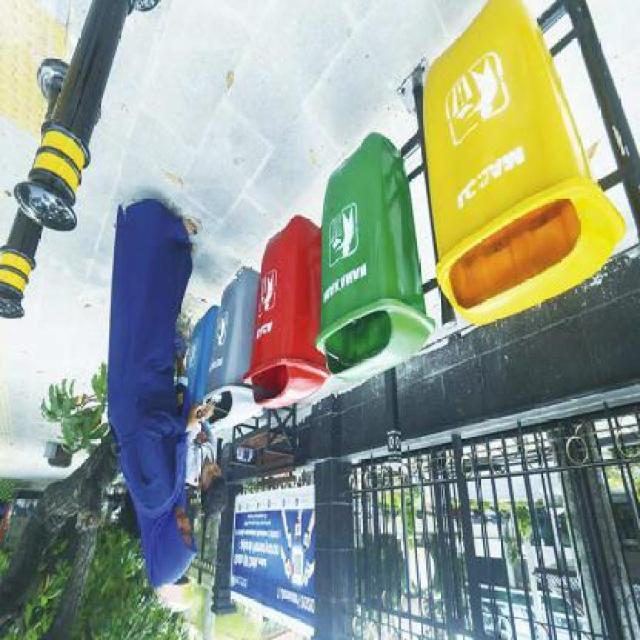garbage container: (417, 6, 634, 339), (323, 113, 437, 395), (251, 203, 324, 417)
